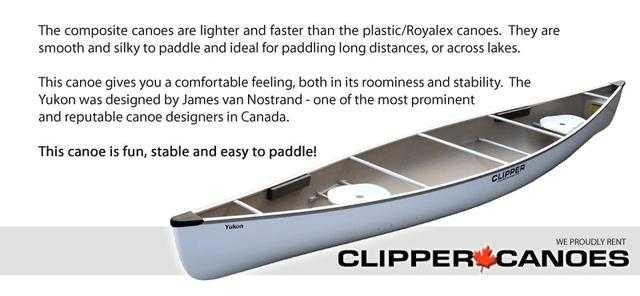kayak: (169, 81, 626, 283)
